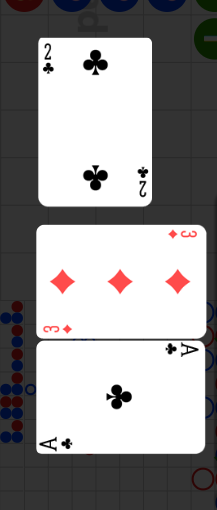2C: (42, 42, 56, 77)
3D: (43, 322, 75, 334)
AC: (39, 434, 78, 452)
